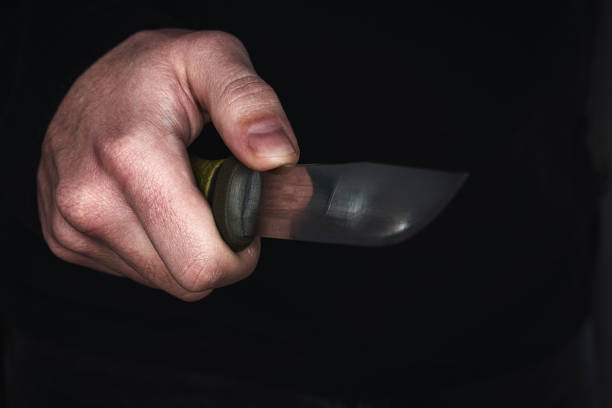knife: (188, 149, 473, 249)
